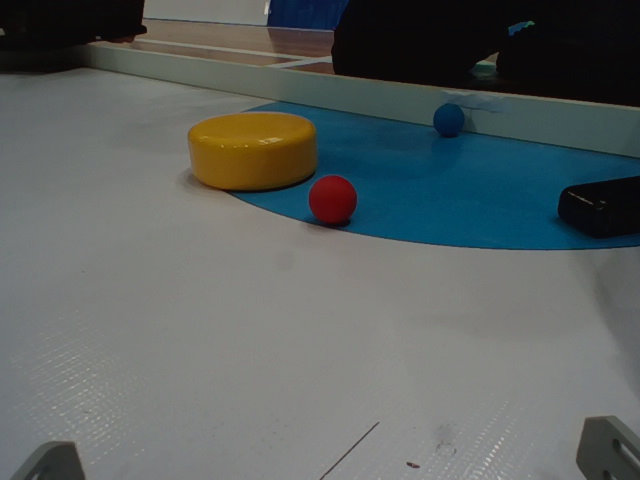black: (559, 167, 640, 243)
blue: (434, 100, 464, 132)
red: (308, 174, 357, 221)
yellow: (187, 111, 316, 191)
